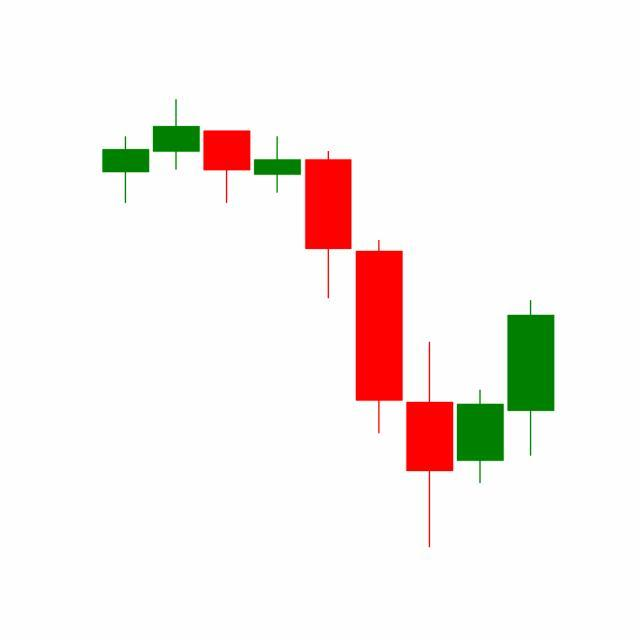Hikkake Pattern: (302, 147, 555, 549)
